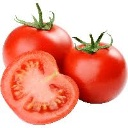tomato: (2, 51, 79, 123), (65, 43, 128, 104), (3, 22, 77, 66)
